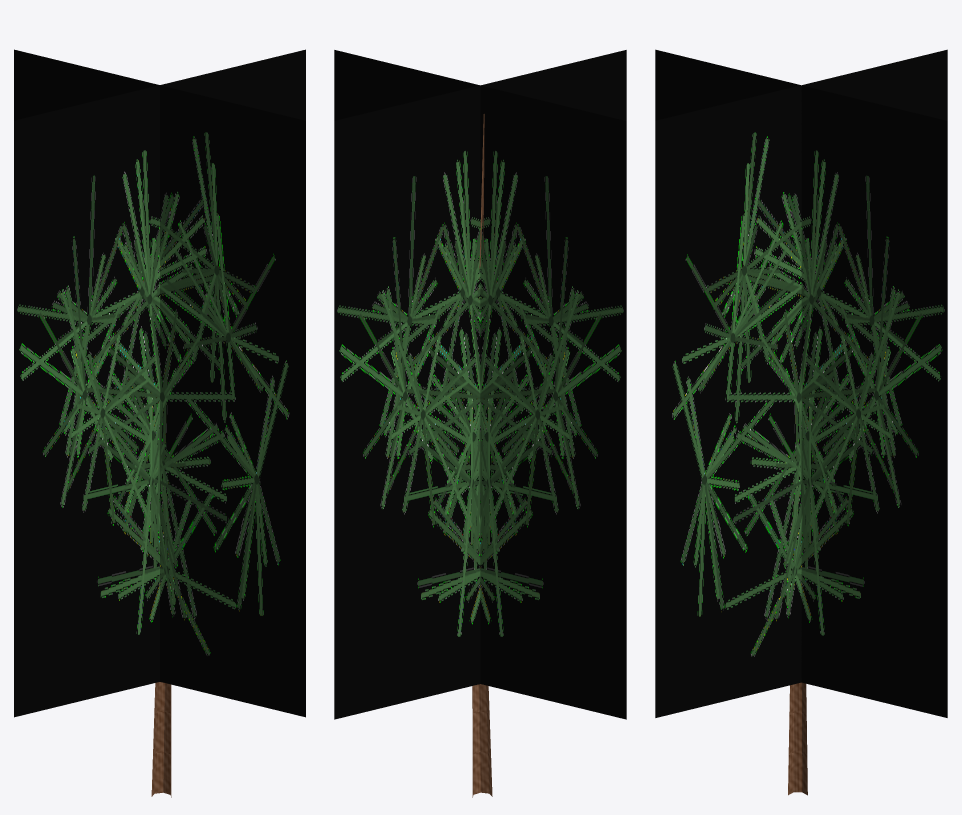
File: Pine_TallMature_LOD2.glb
The picture shows the model from 3 angles, left to right: view 1: azimuth 30°, elevation 25°; view 2: azimuth 150°, elevation 25°; view 3: azimuth 270°, elevation 25°; orthographic projection.
Visible parts, largest first — view 1: Foliage_Cross_0, Foliage_Cross_1, Trunk_Mesh; view 2: Foliage_Cross_2, Foliage_Cross_0, Trunk_Mesh; view 3: Foliage_Cross_1, Foliage_Cross_2, Trunk_Mesh.
Boxes of the visible parts, x1,y1,x2,y2 form: Foliage_Cross_0: (14, 49, 305, 717); Foliage_Cross_1: (14, 49, 305, 717); Trunk_Mesh: (151, 252, 171, 797); Foliage_Cross_2: (334, 50, 626, 719); Foliage_Cross_0: (334, 50, 626, 719); Trunk_Mesh: (472, 114, 492, 797); Foliage_Cross_1: (655, 49, 947, 717); Foliage_Cross_2: (655, 49, 947, 717); Trunk_Mesh: (788, 682, 807, 795).
Bounding box in the file's own units: 9.4 × 21.88 × 8.14.
Materials: 2 (2 with a texture image).
